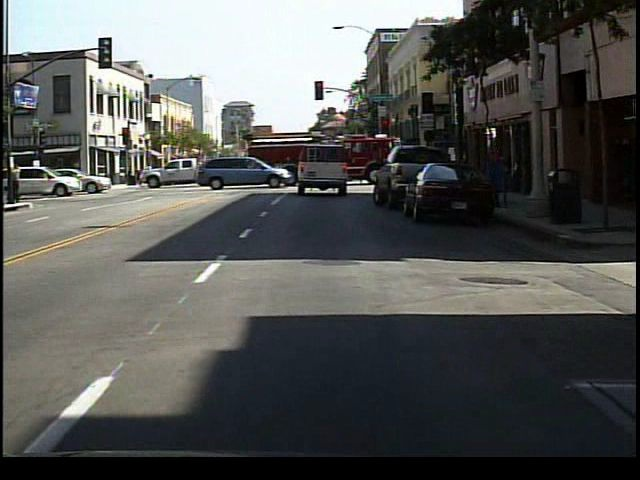person: (13, 161, 26, 207)
